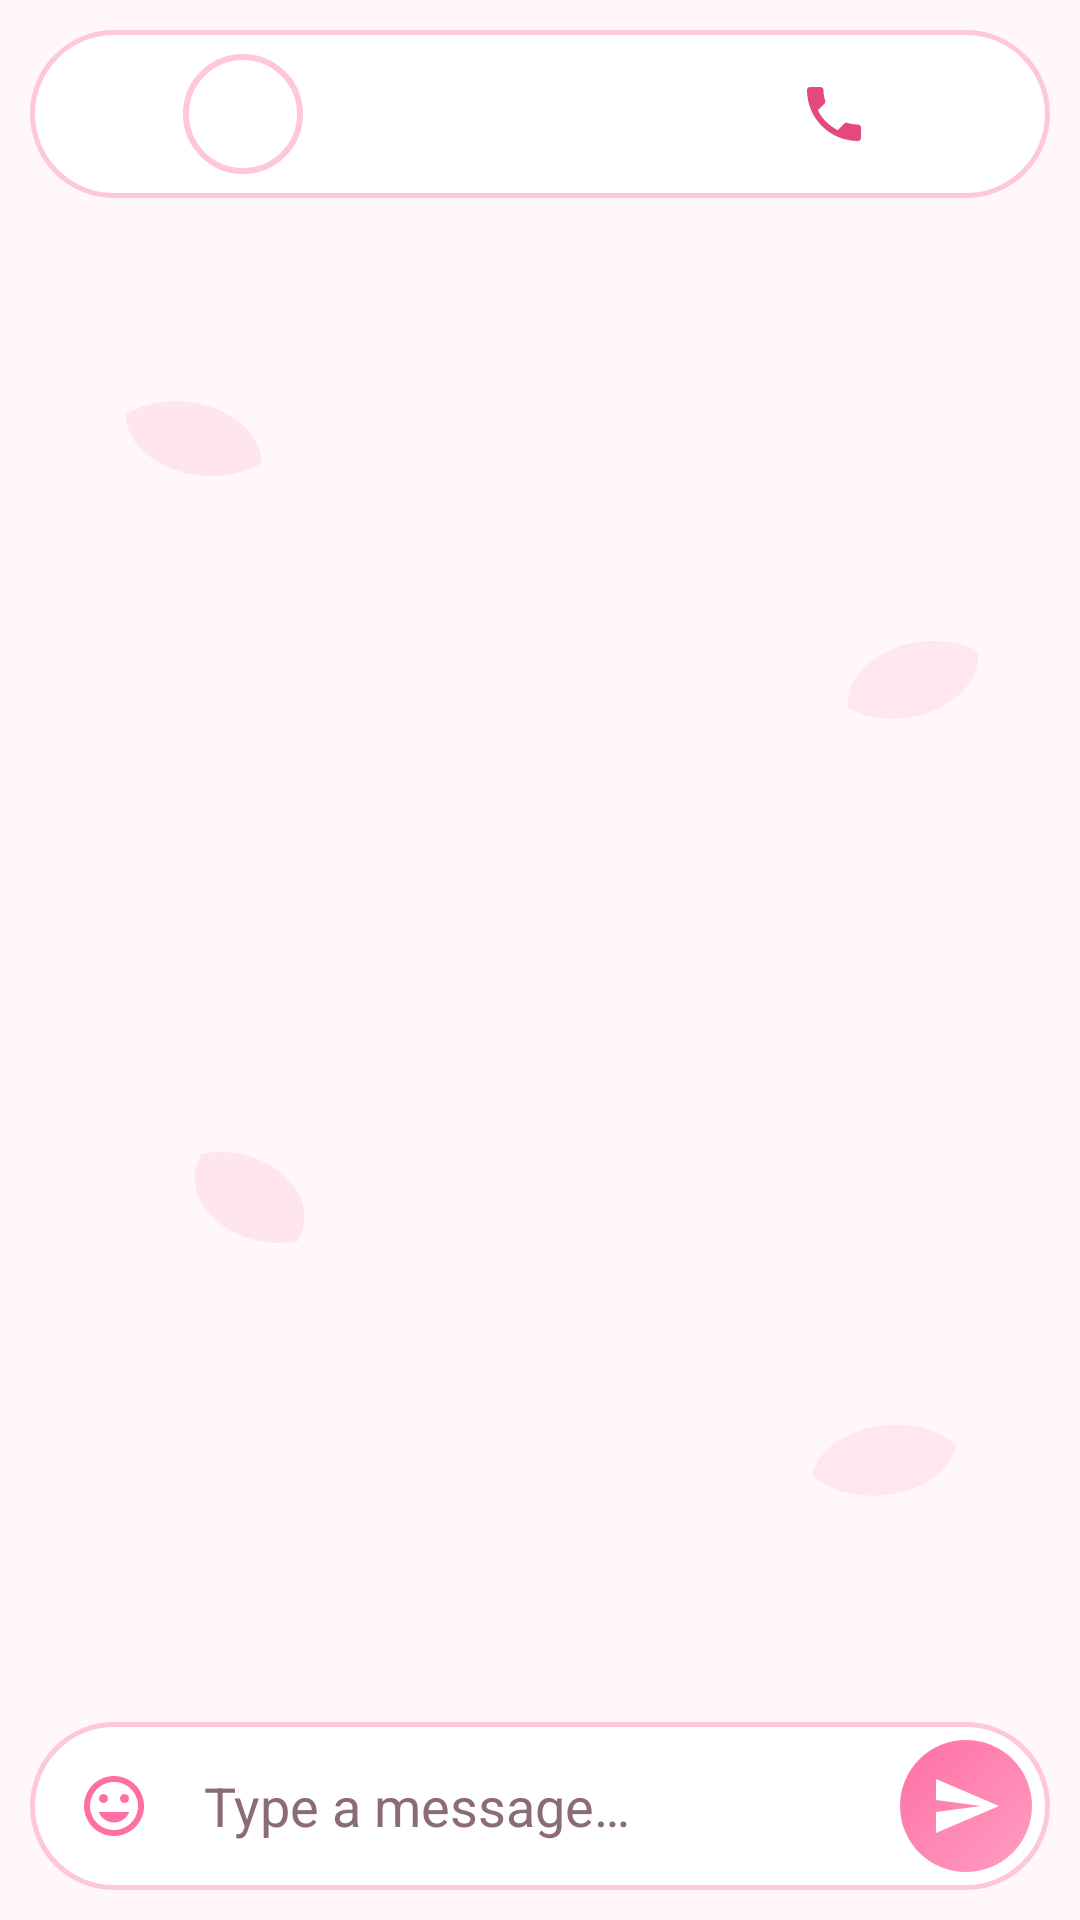

Named icons in this screenshot (1080x1920) and their centers, (x=x, y=y):
Emojis: (x=114, y=1806)
Send: (x=966, y=1806)
Voice call: (x=834, y=114)
